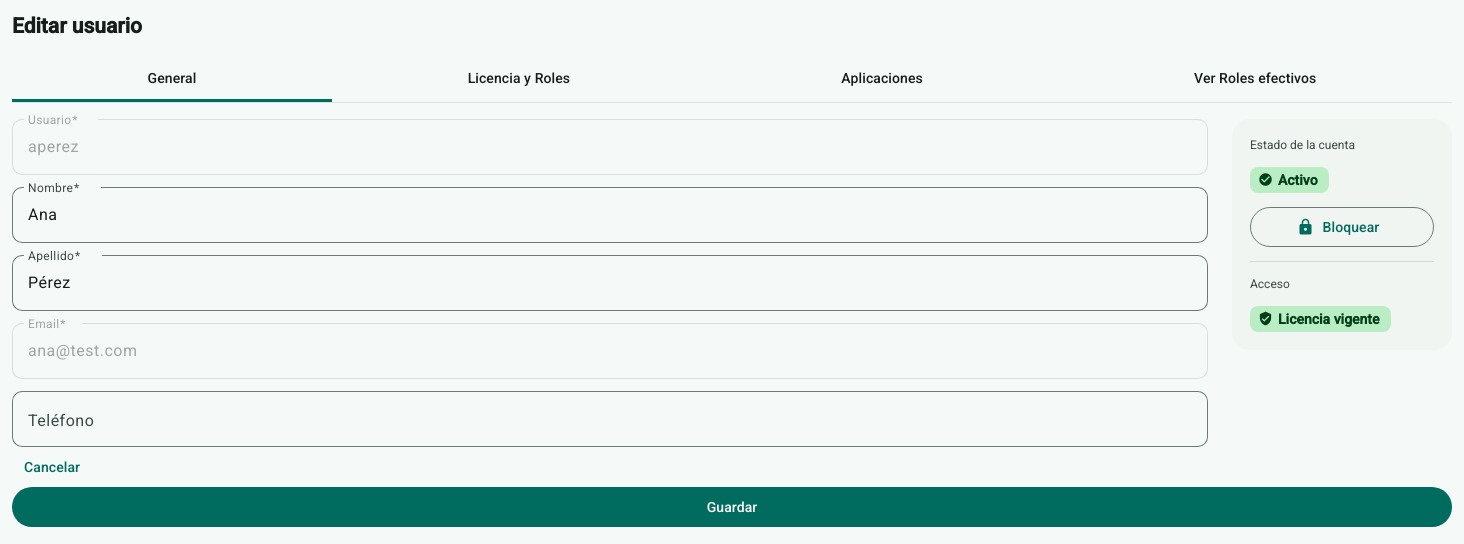
Test case: UsuarioEditComponent › no-root: en la tab muestra la marca "Bloqueado por licencia" del rol que excede la licencia
The image size is (1464, 544).
What coordinates should you click on to do the following:
click the tab "Ver Roles efectivos"
I would click on:
 (1255, 78)
Its box is [1194,70,1316,86].
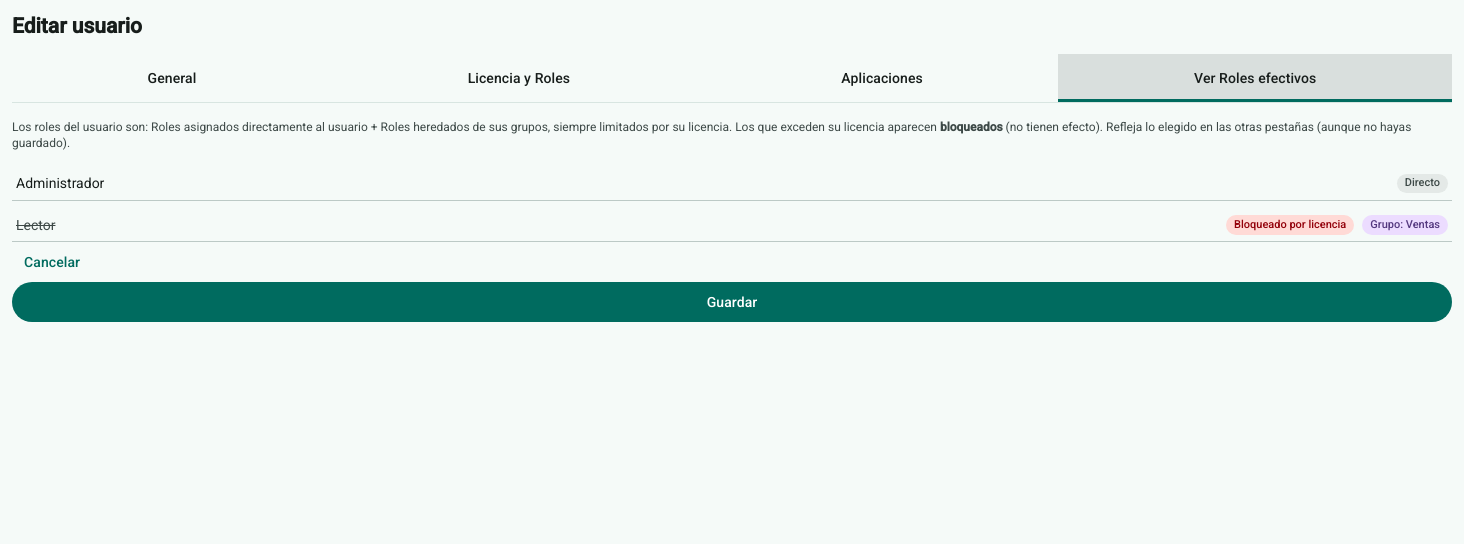
Now the text "Bloqueado por licencia" is shown, box [1226,215,1354,235]
